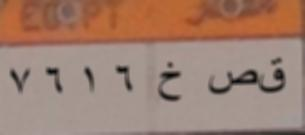1: (78, 62, 97, 99)
6: (107, 62, 139, 97), (44, 64, 68, 96)
7: (8, 65, 32, 96)
khaa: (157, 59, 184, 112)
qaaf: (260, 54, 287, 97)
saad: (207, 67, 258, 99)
